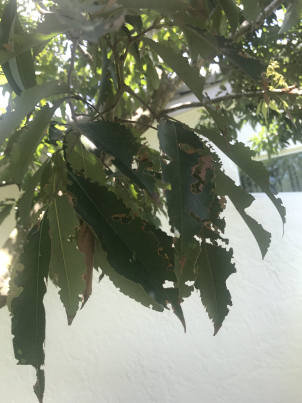weevil: (168, 224, 183, 240)
